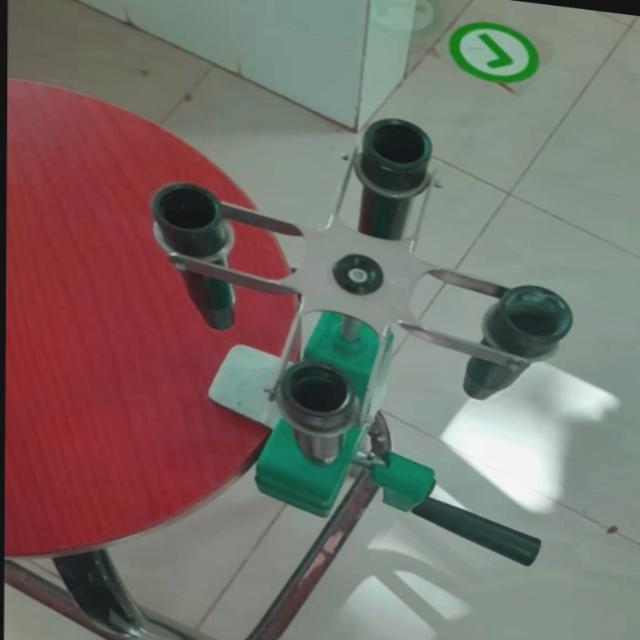Centrifuge: (151, 66, 610, 574)
